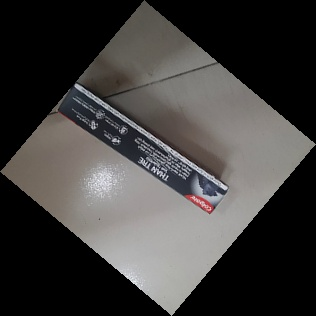Colgate Than: (56, 83, 230, 215)
